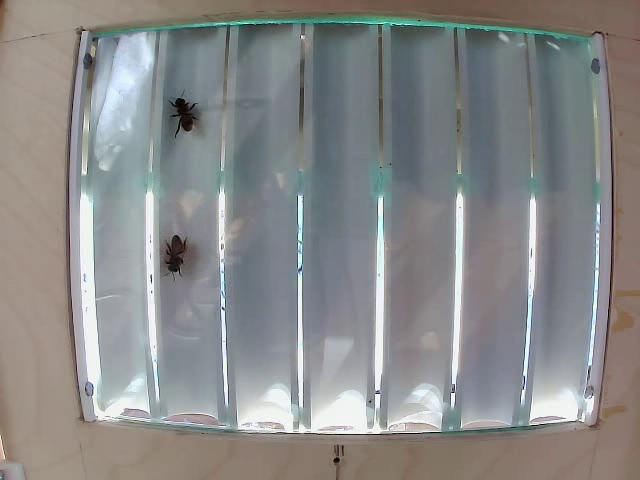bee: (158, 229, 196, 282), (171, 95, 196, 131)
